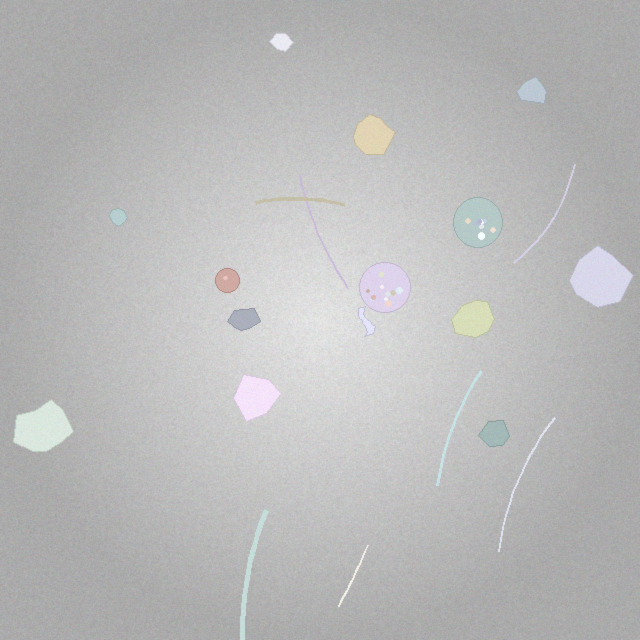fiber: (496, 416, 557, 554), (511, 161, 577, 266), (297, 172, 351, 291), (434, 367, 486, 490), (237, 505, 272, 639), (336, 544, 369, 609), (252, 194, 349, 209)
film: (358, 307, 375, 336)
foam: (360, 263, 410, 313), (453, 198, 503, 247)
fragment: (569, 246, 633, 307), (13, 399, 74, 452), (234, 375, 281, 422), (353, 115, 395, 154), (451, 300, 494, 338), (517, 76, 546, 104), (479, 421, 510, 446), (228, 309, 260, 330), (270, 34, 293, 51), (110, 209, 128, 226)
pellet: (216, 268, 240, 292)
